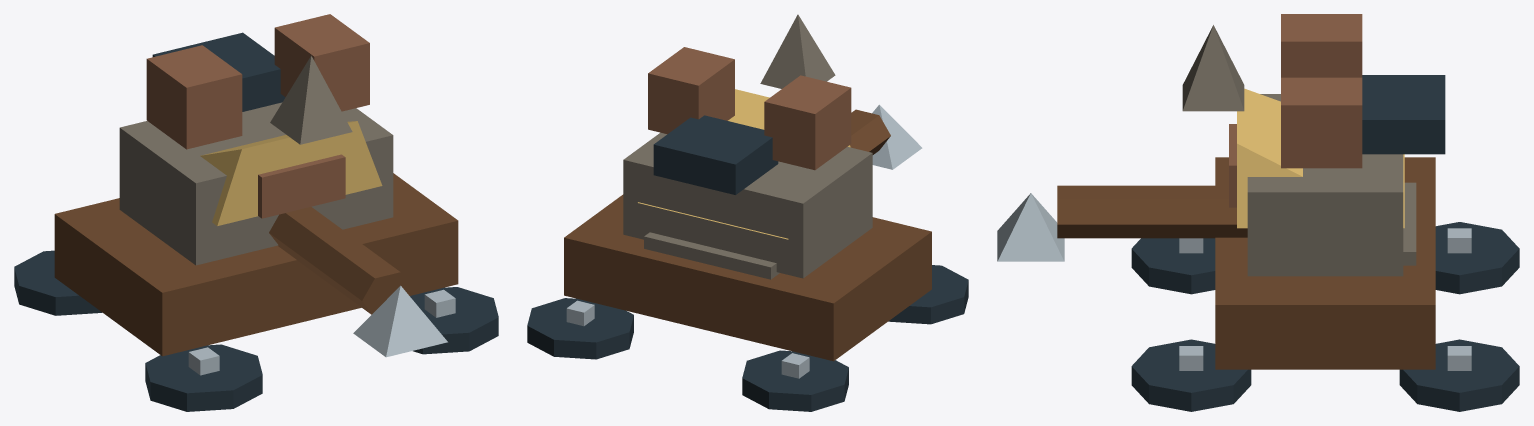
File: siege.obj
3 views of the same model, side by side, from view 1: azimuth 30°, elevation 25°; view 2: azimuth 150°, elevation 25°; view 3: azimuth 270°, elevation 25° (orthographic). The views are drawn at different scales.
Visible parts, largest first — view 1: siege; view 2: siege; view 3: siege.
Part boxes in pixels (<box>): siege: <box>14,14,498,411</box>; siege: <box>527,14,968,411</box>; siege: <box>997,14,1519,411</box>.
Size of the model in its own units: 2.1 by 1.72 by 2.7.
